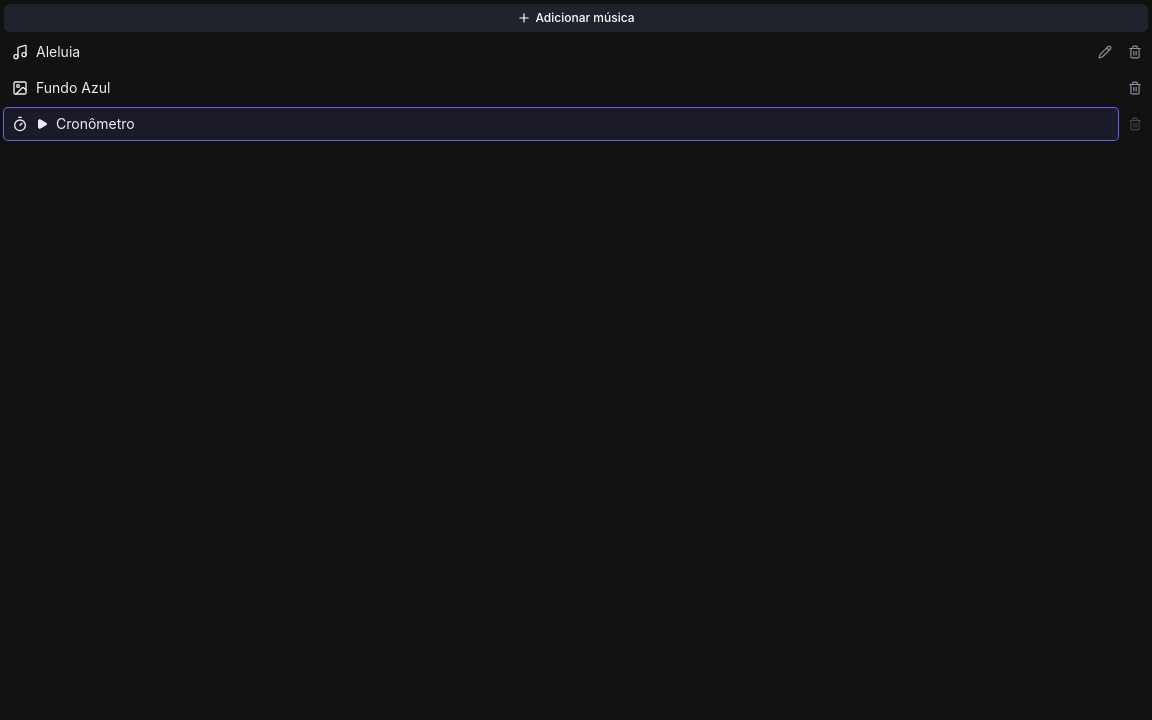
Scenario: SetItemList editable › confirm before removing: Remover sends the id, Cancelar sends nothing
Click the button named "Remover Aleluia" at (1135, 52), box top-left (1122, 39), bottom-right (1148, 65)
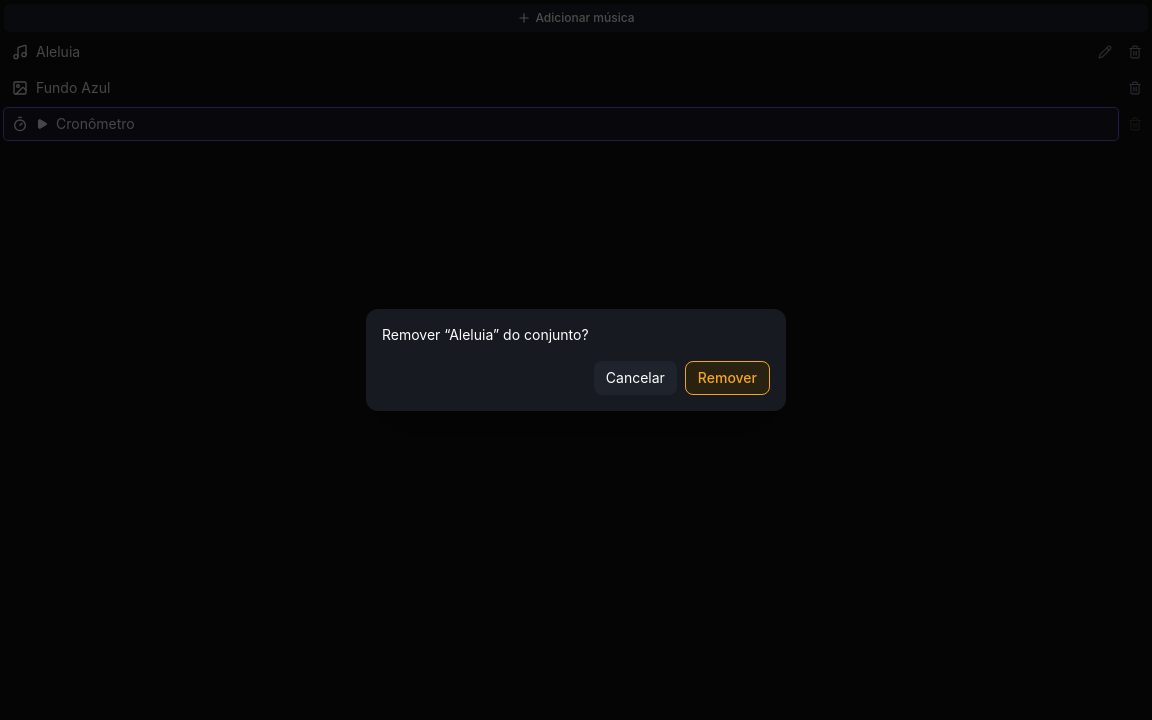
expect the dialog shows "Remover “Aleluia” do conjunto?": met, box top-left (382, 326), bottom-right (589, 343)
Click the button "Cancelar" at (635, 378), box top-left (594, 361), bottom-right (677, 395)
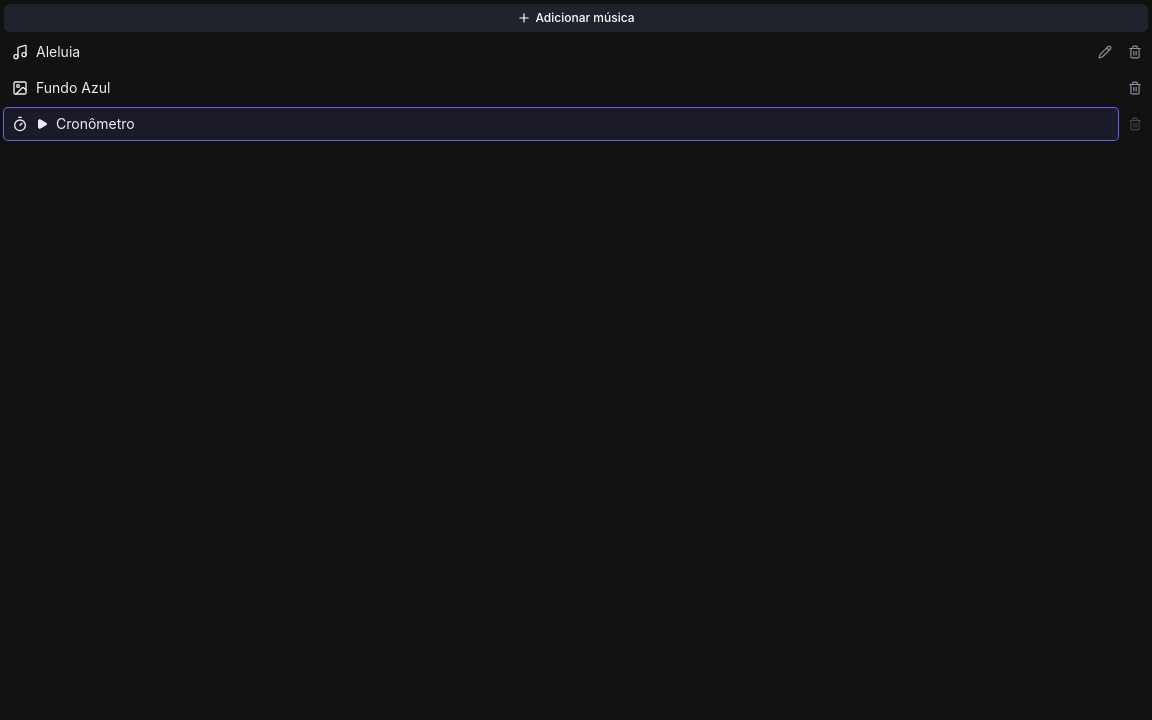
expect the dialog is gone: met
Click the button named "Remover Aleluia" at (1135, 52), box top-left (1122, 39), bottom-right (1148, 65)
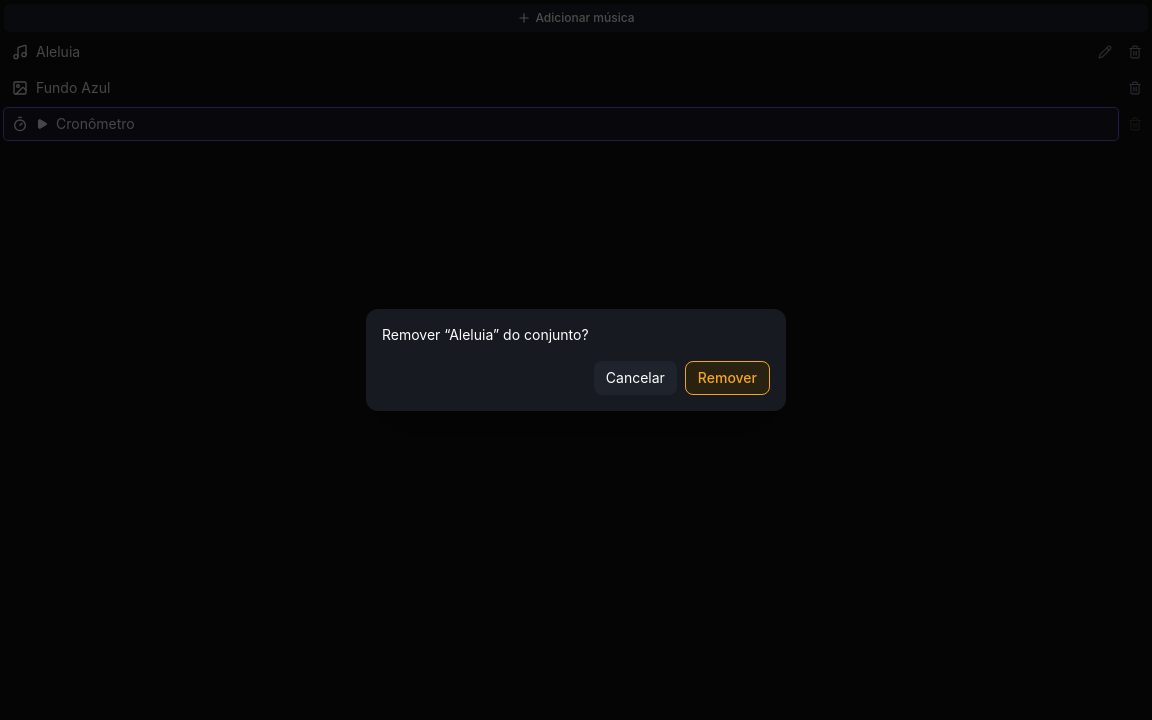
Click the button "Remover" at (727, 378), box top-left (685, 361), bottom-right (770, 395)
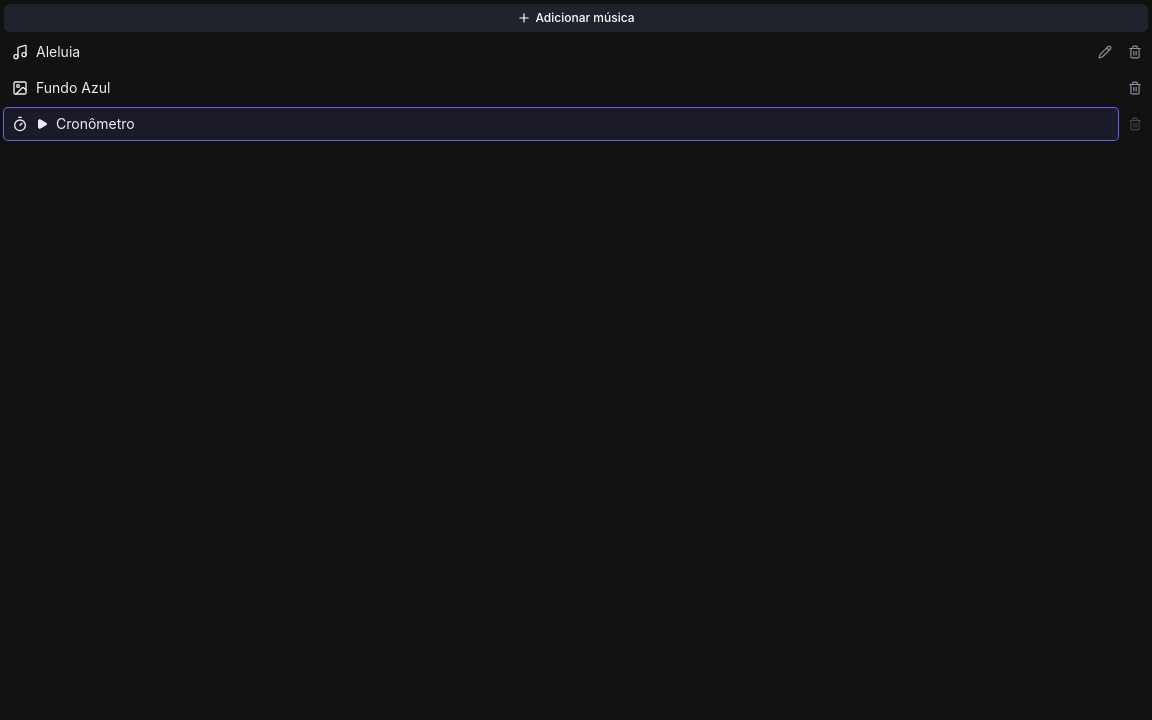
expect the dialog is gone: met
